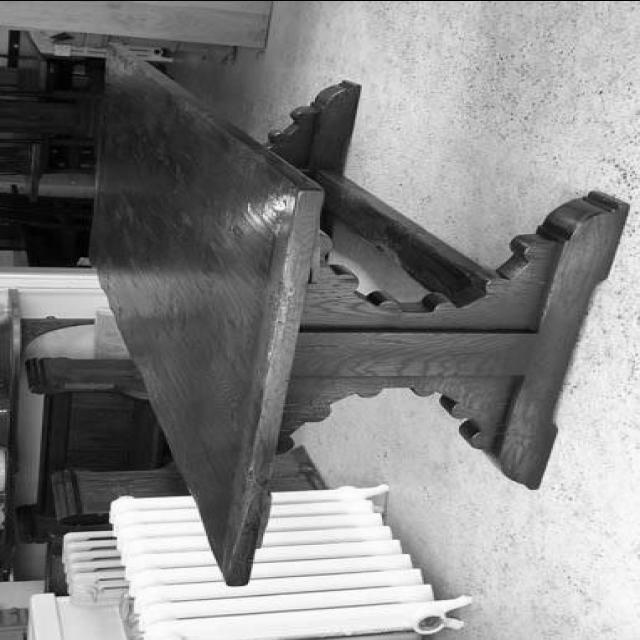table: (87, 39, 627, 586)
